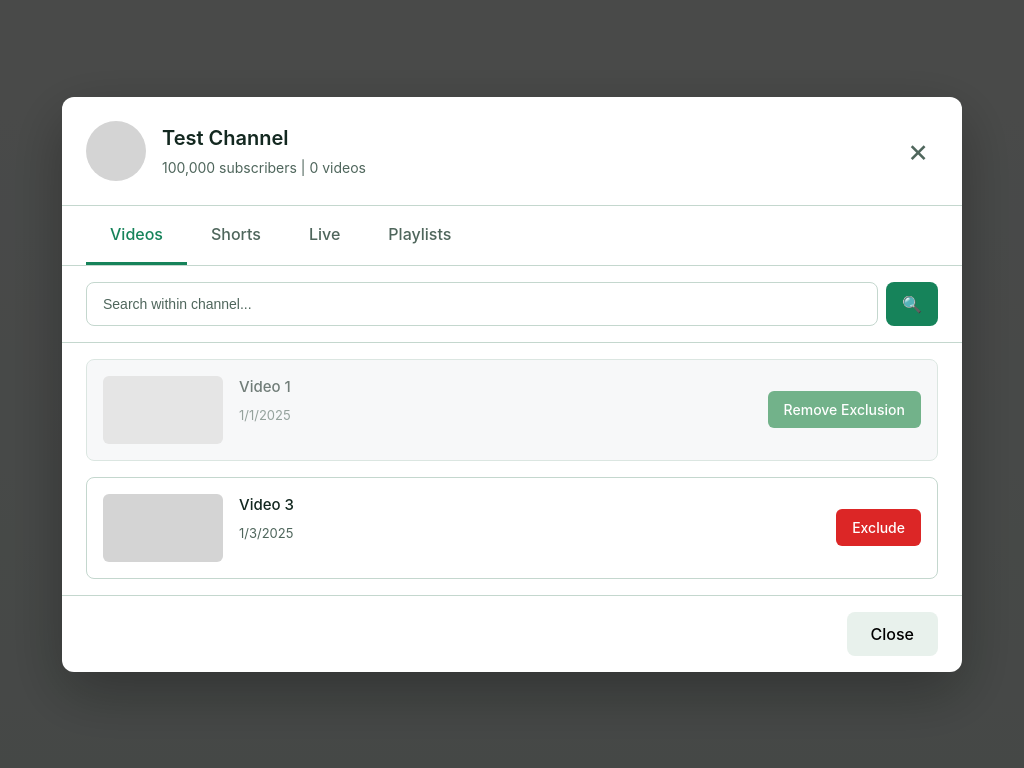
it: ChannelDetailModal › should switch to playlists tab
The width and height of the screenshot is (1024, 768).
Expected: the heading "Video 1" is shown, [239,376,291,396]
What coordinates should you click on to do the following:
click the button "Playlists"
I would click on:
 (420, 235)
Its box is [364,206,475,264].
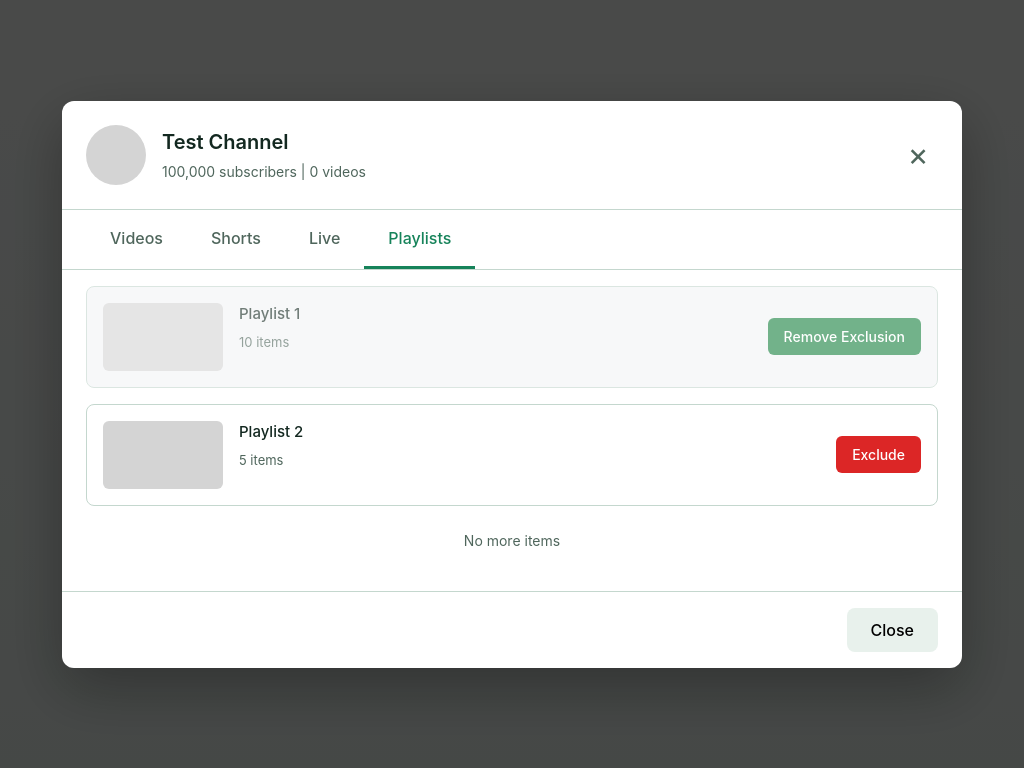
Result: the heading "Playlist 1" is shown at [239,304,300,322]
Result: the heading "Playlist 2" is shown at [239,422,303,440]
